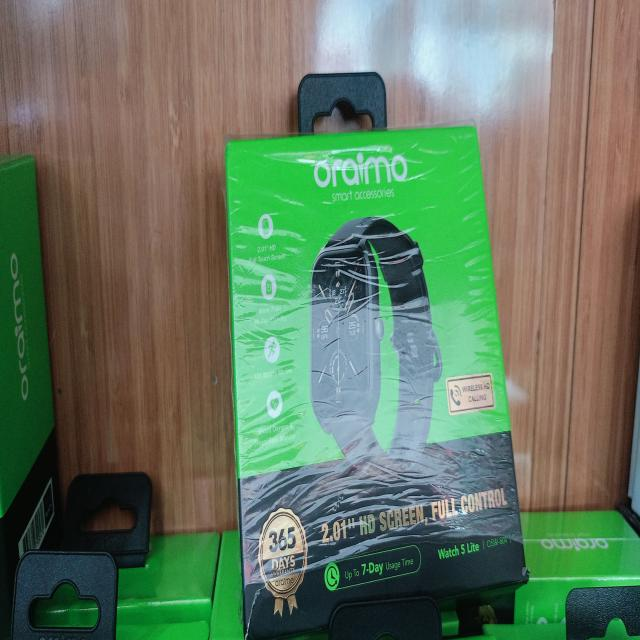Watch 5 Lite OSW-804: (436, 523, 524, 572)
